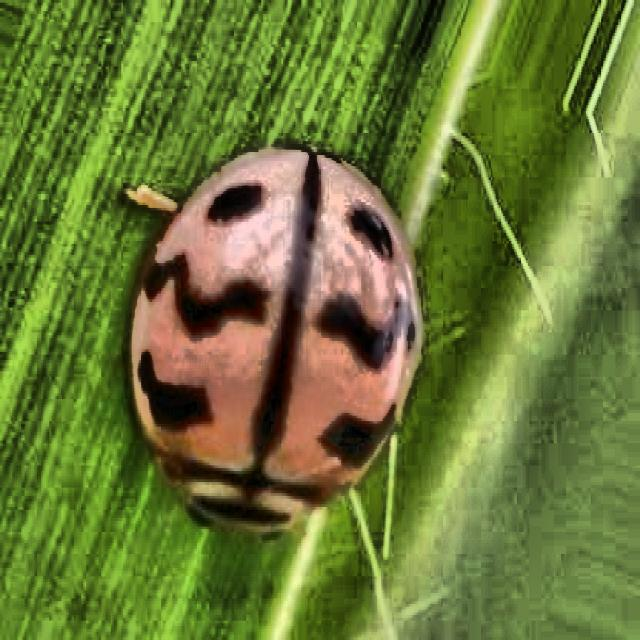Asian-Lady-beetle: (68, 84, 445, 640)
